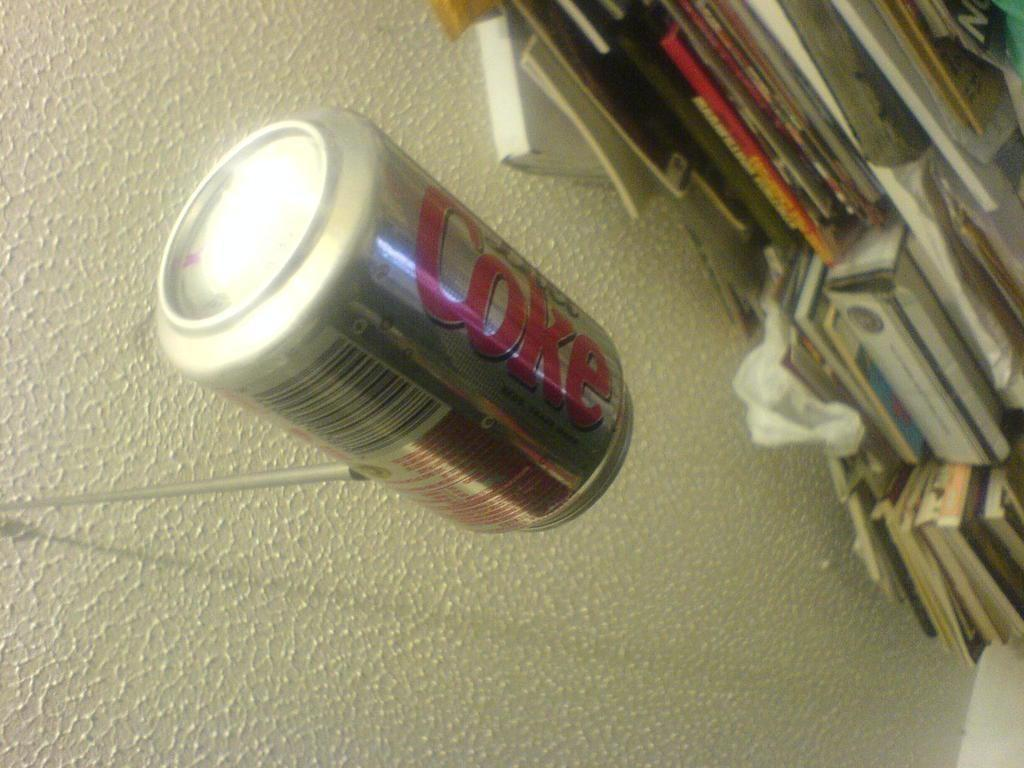tin can: (156, 108, 632, 535)
